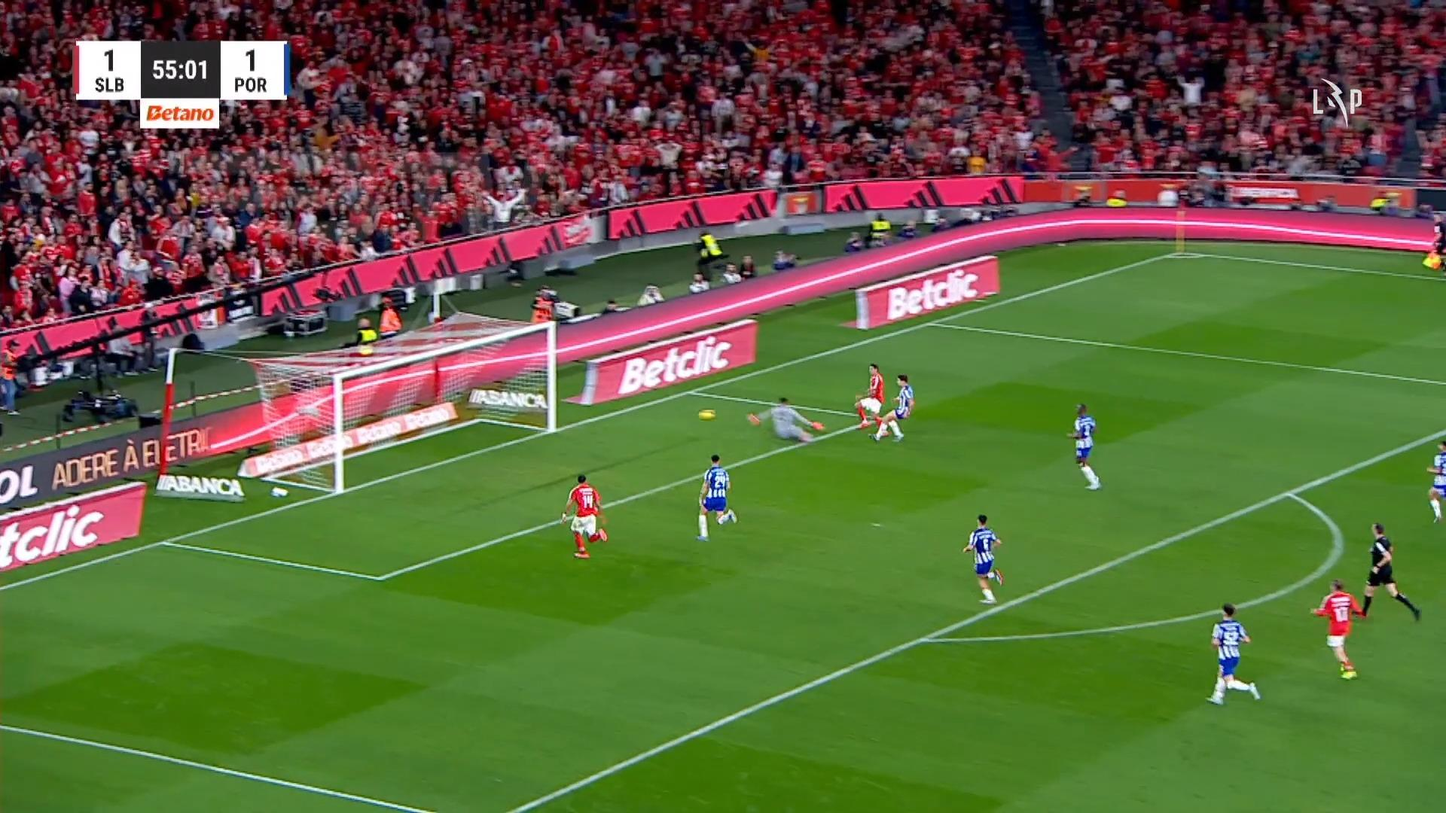ball: (698, 409, 715, 419)
goalkeeper: (747, 395, 824, 443)
player: (1206, 601, 1261, 705), (1310, 578, 1364, 679), (560, 473, 608, 559), (962, 513, 1004, 604), (694, 453, 737, 540), (1066, 402, 1101, 490), (869, 373, 914, 441), (853, 362, 884, 428), (1426, 439, 1444, 522)
referee: (1352, 521, 1421, 622), (1421, 210, 1446, 273)
